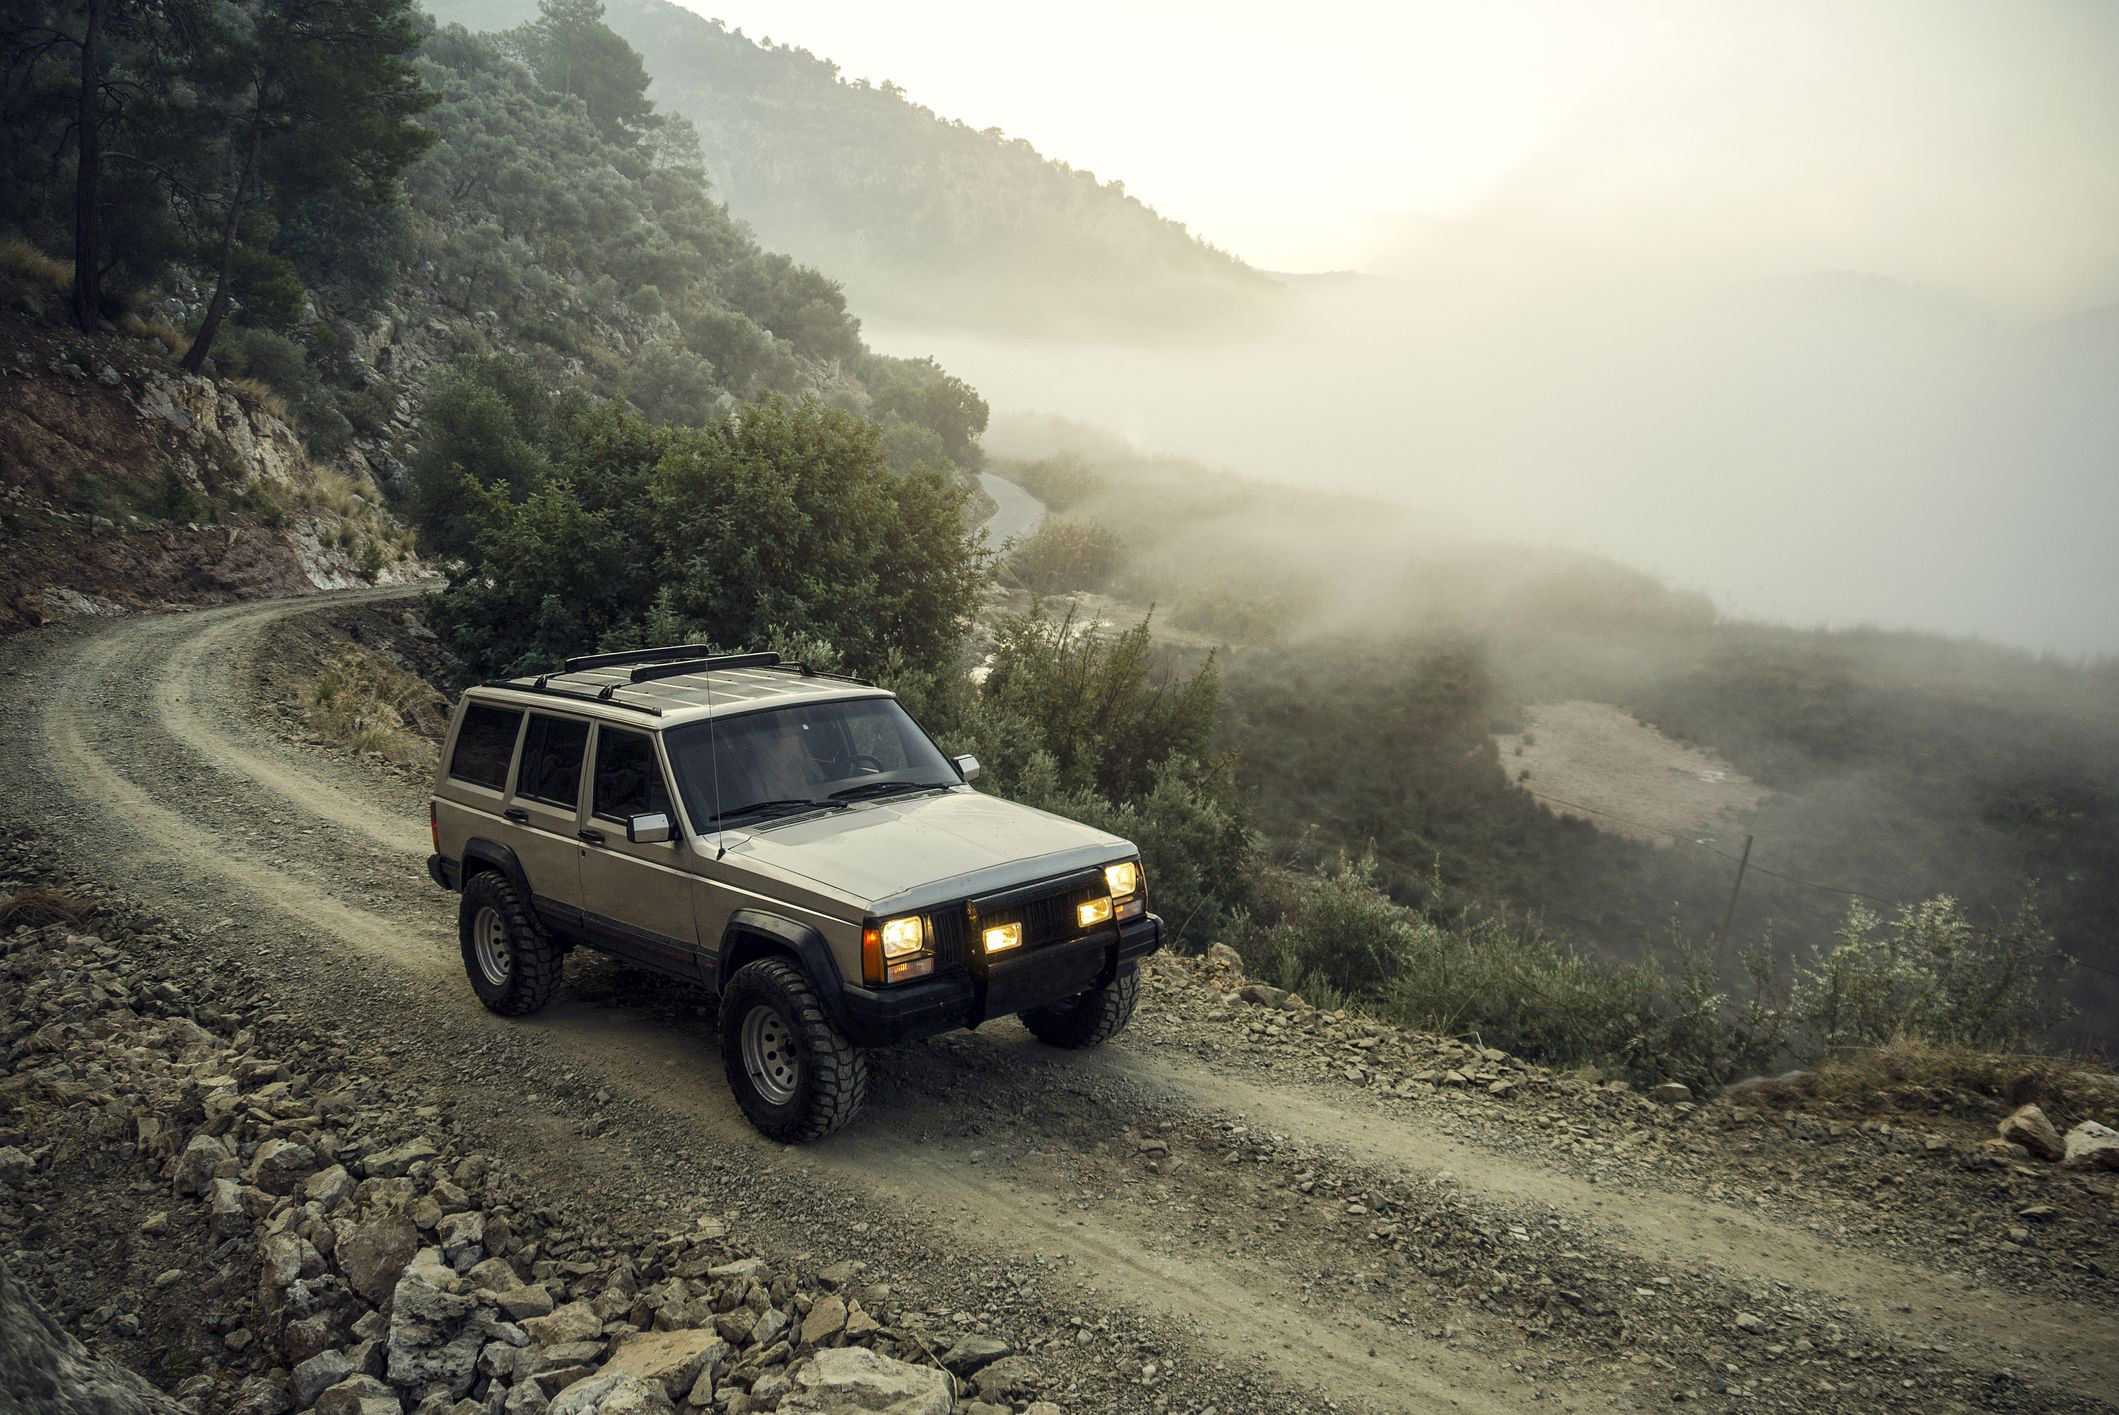nonacc: (407, 633, 1168, 1170)
